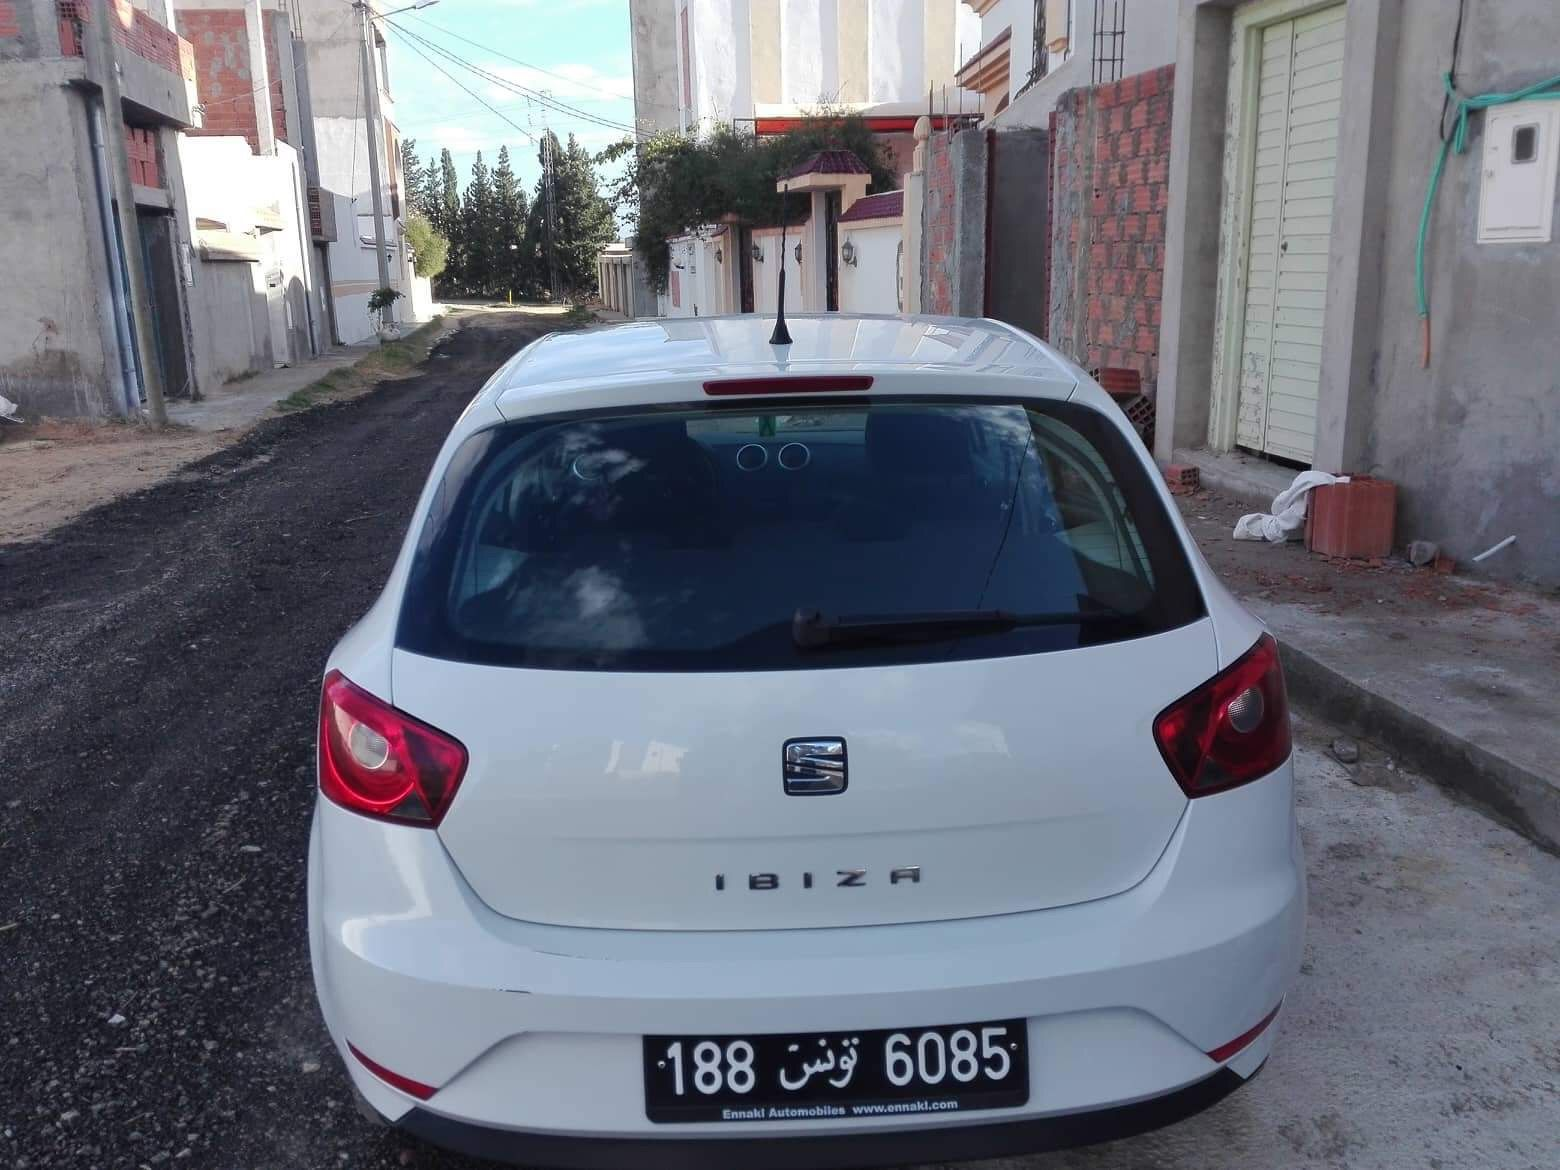LP: (640, 1026, 1028, 1116)
